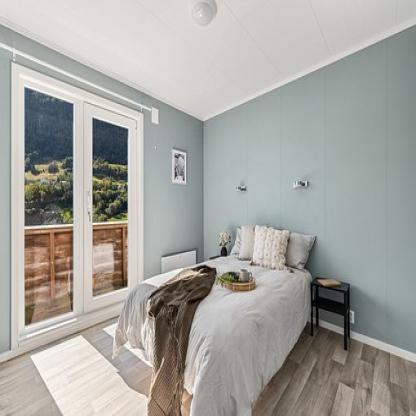Window: (13, 64, 145, 354)
